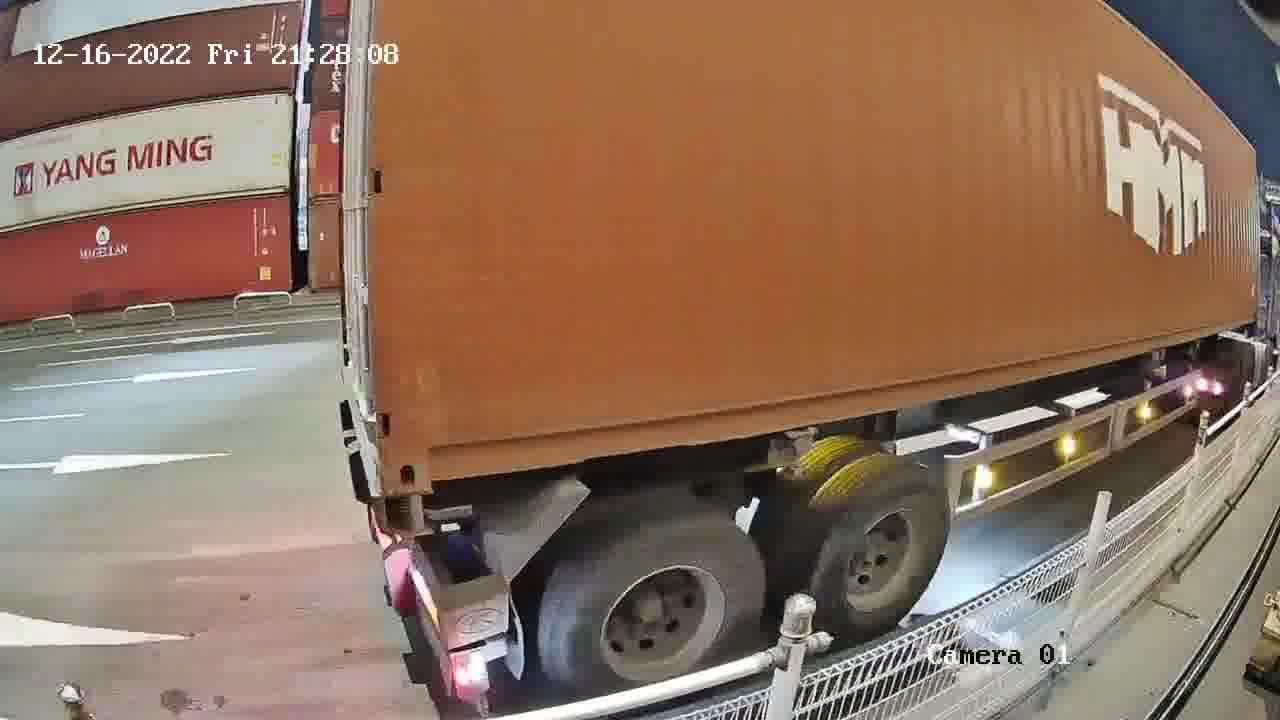Cone: (388, 490, 431, 536)
Hole_L: (380, 401, 476, 497)
Tire: (553, 519, 762, 688), (811, 467, 951, 643)
